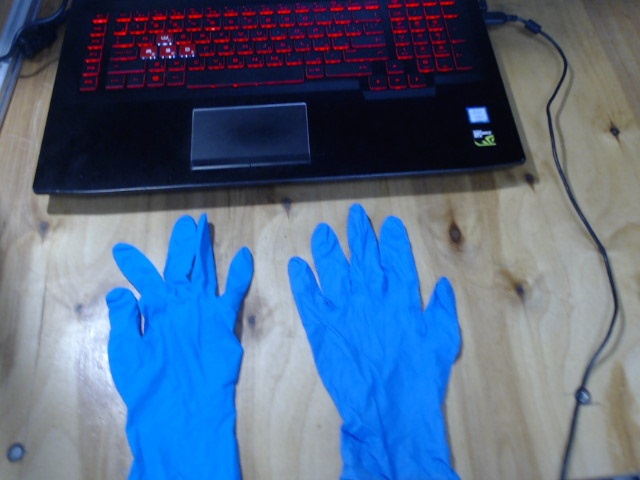medical_glove: (287, 203, 464, 480), (106, 215, 254, 480)
